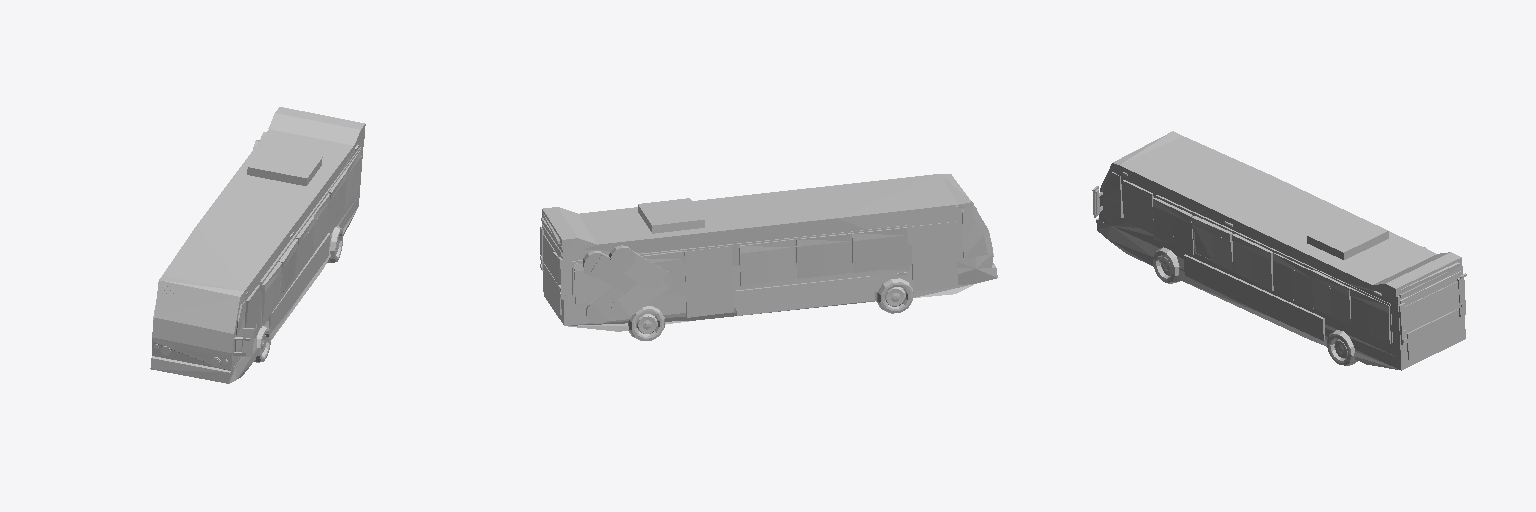
3 renders of one model, left to right at view 1: azimuth 30°, elevation 25°; view 2: azimuth 150°, elevation 25°; view 3: azimuth 270°, elevation 25°, orthographic.
Visible parts, largest first — view 1: group[number redacted], group[number redacted], group[number redacted], group[number redacted], group[number redacted], group[number redacted], group[number redacted]; view 2: group[number redacted], group[number redacted], group[number redacted], group[number redacted], group[number redacted], group[number redacted], group[number redacted], group[number redacted], group[number redacted], group[number redacted], group[number redacted], group[number redacted] (+6 smaller); view 3: group[number redacted], group[number redacted], group[number redacted], group[number redacted], group[number redacted], group[number redacted], group[number redacted], group[number redacted], group[number redacted], group[number redacted], group[number redacted], group[number redacted] (+1 smaller).
Boxes of the visible parts, x1=… form: group[number redacted]: x1=150, y1=129, x2=363, y2=383; group[number redacted]: x1=257, y1=147, x2=361, y2=327; group[number redacted]: x1=268, y1=107, x2=365, y2=145; group[number redacted]: x1=247, y1=146, x2=322, y2=185; group[number redacted]: x1=268, y1=233, x2=330, y2=332; group[number redacted]: x1=260, y1=262, x2=281, y2=323; group[number redacted]: x1=312, y1=193, x2=330, y2=254; group[number redacted]: x1=542, y1=174, x2=997, y2=331; group[number redacted]: x1=736, y1=276, x2=874, y2=315; group[number redacted]: x1=684, y1=246, x2=733, y2=317; group[number redacted]: x1=912, y1=221, x2=957, y2=291; group[number redacted]: x1=739, y1=239, x2=795, y2=285; group[number redacted]: x1=796, y1=233, x2=851, y2=278; group[number redacted]: x1=852, y1=227, x2=907, y2=272; group[number redacted]: x1=572, y1=225, x2=909, y2=307; group[number redacted]: x1=583, y1=251, x2=637, y2=323; group[number redacted]: x1=638, y1=198, x2=704, y2=233; group[number redacted]: x1=542, y1=207, x2=596, y2=255; group[number redacted]: x1=876, y1=278, x2=913, y2=313; group[number redacted]: x1=1096, y1=131, x2=1465, y2=370; group[number redacted]: x1=1154, y1=195, x2=1392, y2=347; group[number redacted]: x1=1184, y1=254, x2=1324, y2=340; group[number redacted]: x1=1307, y1=214, x2=1388, y2=259; group[number redacted]: x1=1153, y1=198, x2=1193, y2=254; group[number redacted]: x1=1273, y1=253, x2=1313, y2=308; group[number redacted]: x1=1372, y1=252, x2=1462, y2=303; group[number redacted]: x1=1405, y1=281, x2=1459, y2=332; group[number redacted]: x1=1407, y1=309, x2=1458, y2=359; group[number redacted]: x1=1123, y1=180, x2=1153, y2=234; group[number redacted]: x1=1327, y1=330, x2=1357, y2=365; group[number redacted]: x1=1153, y1=247, x2=1180, y2=283.
Bounding box in the file's own units: 3.52 × 1.12 × 3.41.